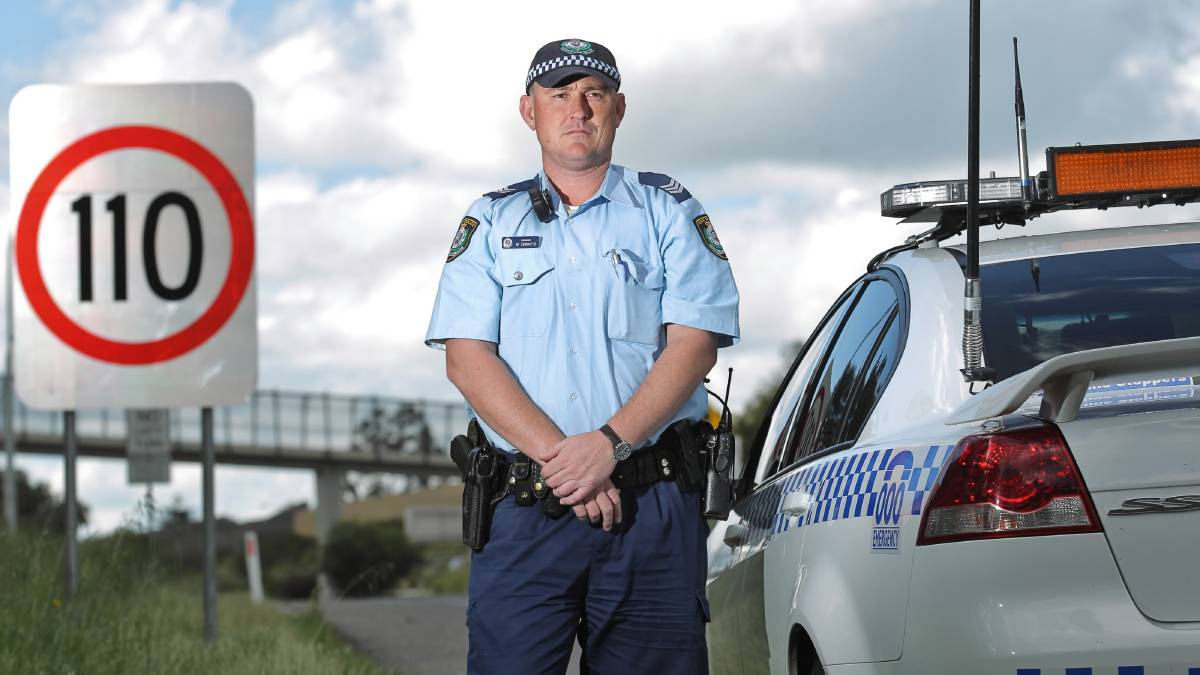Speed_limit_110km: (14, 123, 255, 366)
